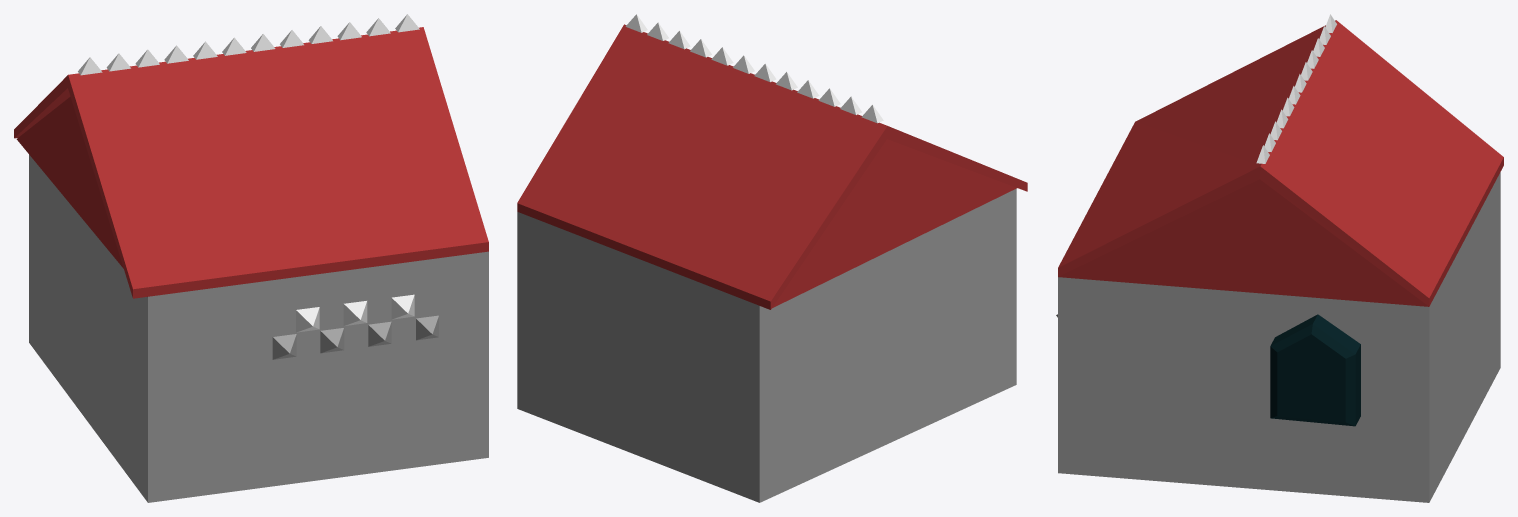
File: HOUSE 2.fbx
3 renders of one model, left to right at view 1: azimuth 30°, elevation 25°; view 2: azimuth 150°, elevation 25°; view 3: azimuth 270°, elevation 25°, orthographic. The views are drawn at different scales.
Parts seen in each view (by area): view 1: HOUSE_2, HOUSE_2_2; view 2: HOUSE_2, HOUSE_2_2; view 3: HOUSE_2.
Boxes of the visible parts, box(x1,y1,x2,y2) form: HOUSE_2: box(14, 14, 488, 502); HOUSE_2_2: box(16, 96, 147, 296); HOUSE_2: box(517, 14, 1027, 502); HOUSE_2_2: box(772, 139, 1016, 308); HOUSE_2: box(1056, 14, 1503, 502).
Bounding box in the file's own units: 442 × 384 × 458.
Materials: 1 (1 with a texture image).
